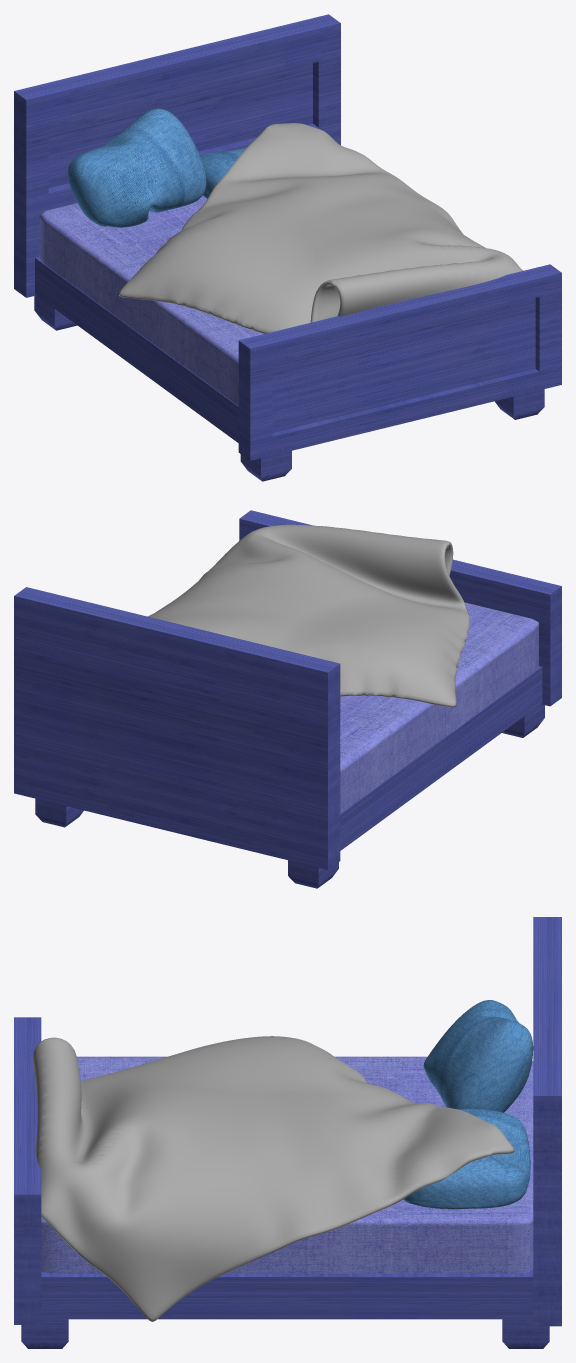
Rendered from Bedmodel02.fbx.
3 renders of one model, top to bottom at view 1: azimuth 30°, elevation 25°; view 2: azimuth 150°, elevation 25°; view 3: azimuth 270°, elevation 25°, orthographic. The views are drawn at different scales.
Parts seen in each view (by area): view 1: pCube10, pCube2, pCube4, pCube9, pillow1, pCube1, pCube5, pillow, pCube6, pCube8; view 2: pCube4, pCube10, pCube9, pCube1, pCube2, pCube8, pCube7, pCube5; view 3: pCube10, pCube9, pCube1, pCube4, pillow1, pCube2, pillow, pCube7, pCube6.
Part boxes in pixels (x1,y1,x2,y2): pCube10: (119,123,522,333); pCube2: (238,264,561,460); pCube4: (14,14,340,297); pCube9: (39,195,263,405); pillow1: (68,108,206,227); pCube1: (35,257,238,442); pCube5: (240,451,291,481); pillow: (200,147,246,198); pCube6: (495,389,544,419); pCube8: (34,295,77,330); pCube4: (14,587,340,869); pCube10: (148,524,469,707); pCube9: (340,602,538,813); pCube1: (340,666,542,850); pCube2: (239,510,561,706); pCube8: (288,860,338,888); pCube7: (35,798,83,827); pCube5: (502,704,544,737); pCube10: (32,1036,514,1321); pCube9: (41,1056,533,1273); pCube1: (41,1270,533,1319); pCube4: (533,917,561,1326); pillow1: (423,1000,533,1112); pCube2: (14,1017,41,1324); pillow: (403,1109,530,1209); pCube7: (502,1319,549,1348); pCube6: (21,1319,68,1348).
Bounding box in the file's own units: 11.27 × 7.32 × 13.74.
